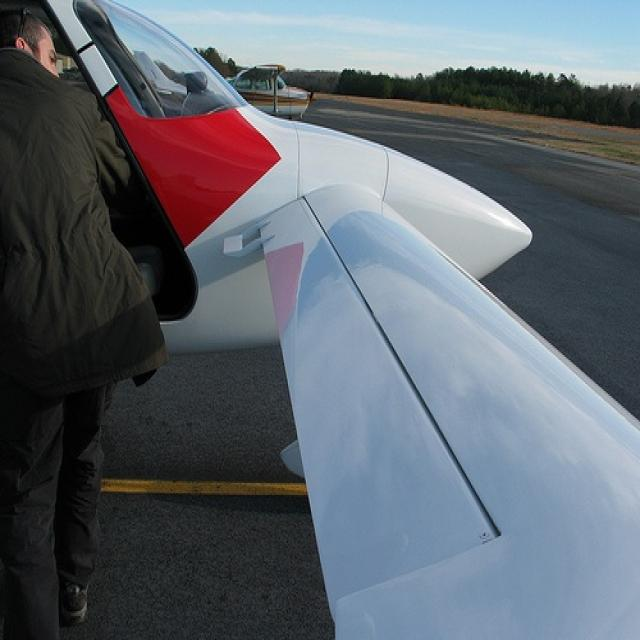aeroplane: (0, 5, 630, 638), (235, 59, 312, 118)
